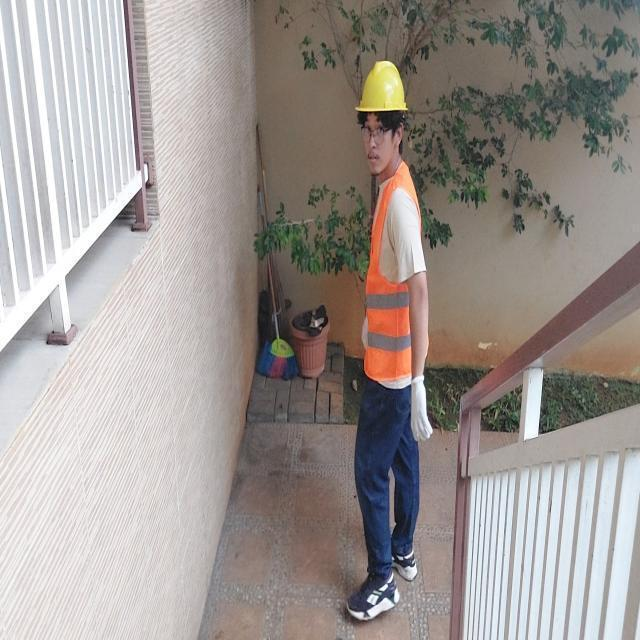helmet: (352, 54, 414, 119)
safety_vest: (349, 158, 434, 396)
